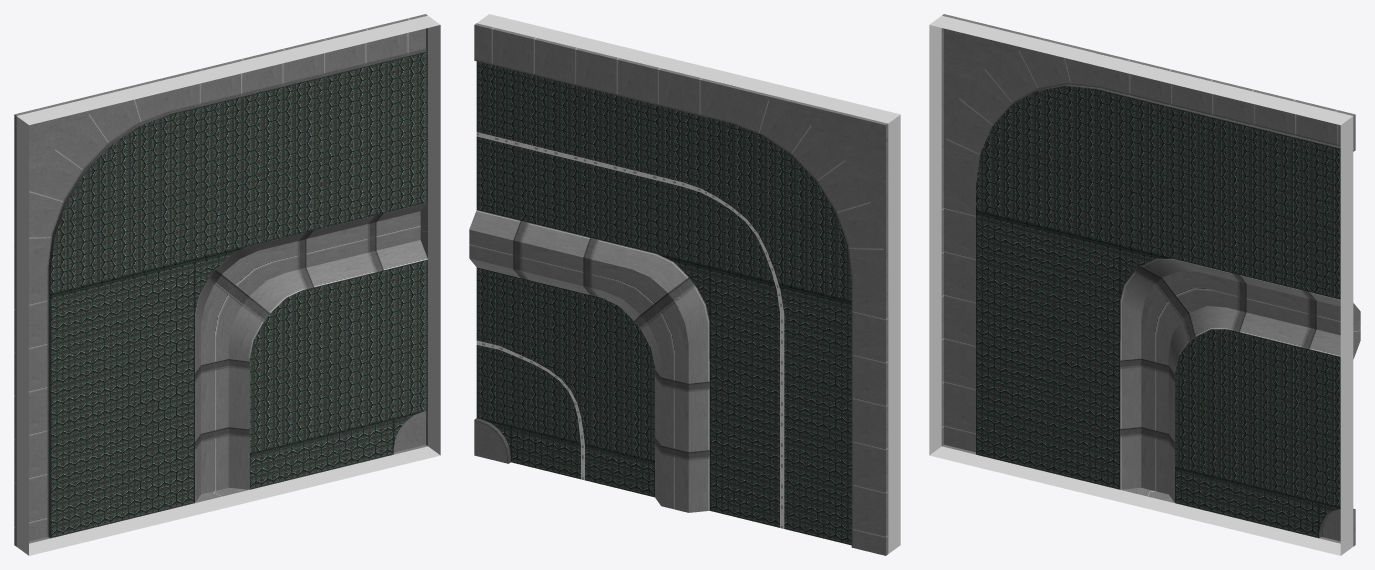
File: FC_road_90_degree_turn.fbx
The picture shows the model from 3 angles, left to right: view 1: azimuth 30°, elevation 25°; view 2: azimuth 150°, elevation 25°; view 3: azimuth 330°, elevation 25°; orthographic projection.
Parts seen in each view (by area): view 1: FC_road_90_degree_turn; view 2: FC_road_90_degree_turn, light_009; view 3: FC_road_90_degree_turn.
Part boxes in pixels (x1,y1,x2,y2): FC_road_90_degree_turn: (14, 14, 440, 555); FC_road_90_degree_turn: (469, 14, 900, 555); light_009: (476, 132, 784, 528); FC_road_90_degree_turn: (929, 14, 1360, 555).
Bounding box in the file's own units: 16 × 16 × 1.36.
